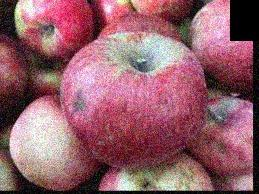rotten apple: (53, 32, 203, 162), (189, 95, 252, 173), (97, 150, 213, 190)
